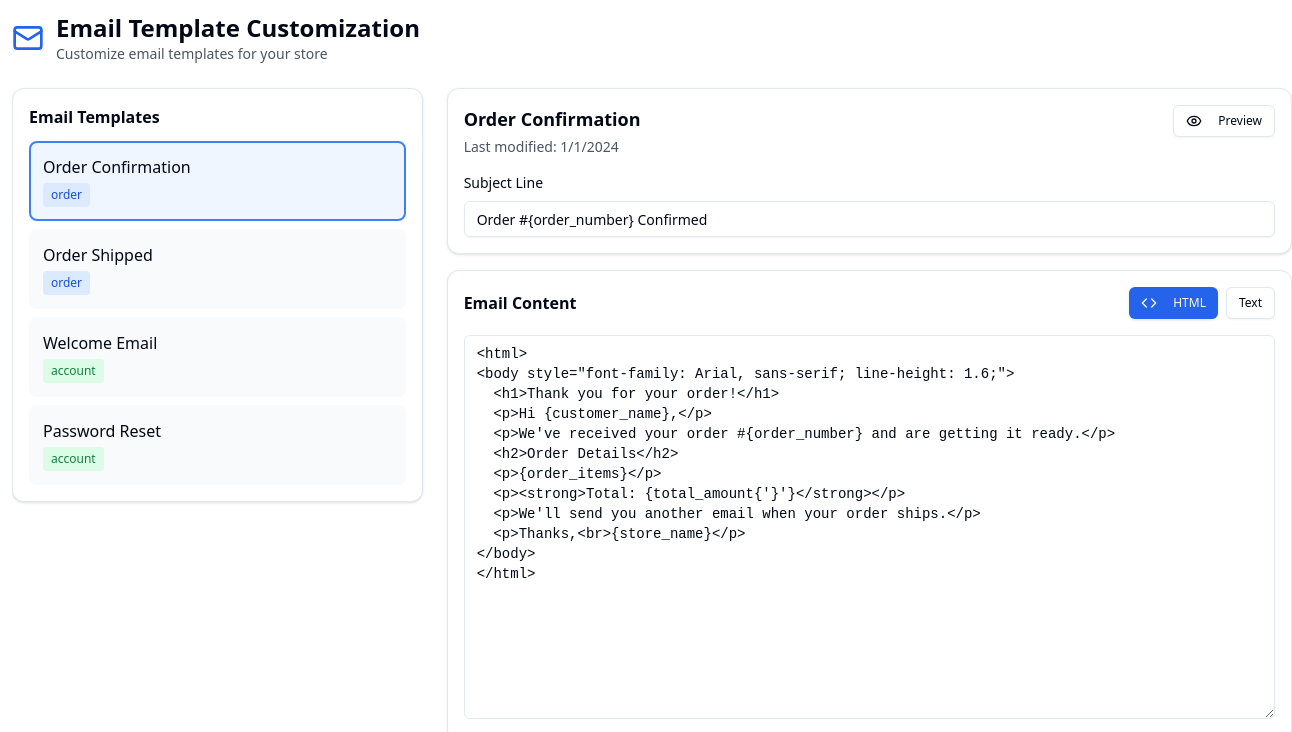
Test: EmailTemplateCustomization › switches back to HTML editor
Click the button with test id "text-mode-btn" at (1250, 303), box [1226,287,1275,319]
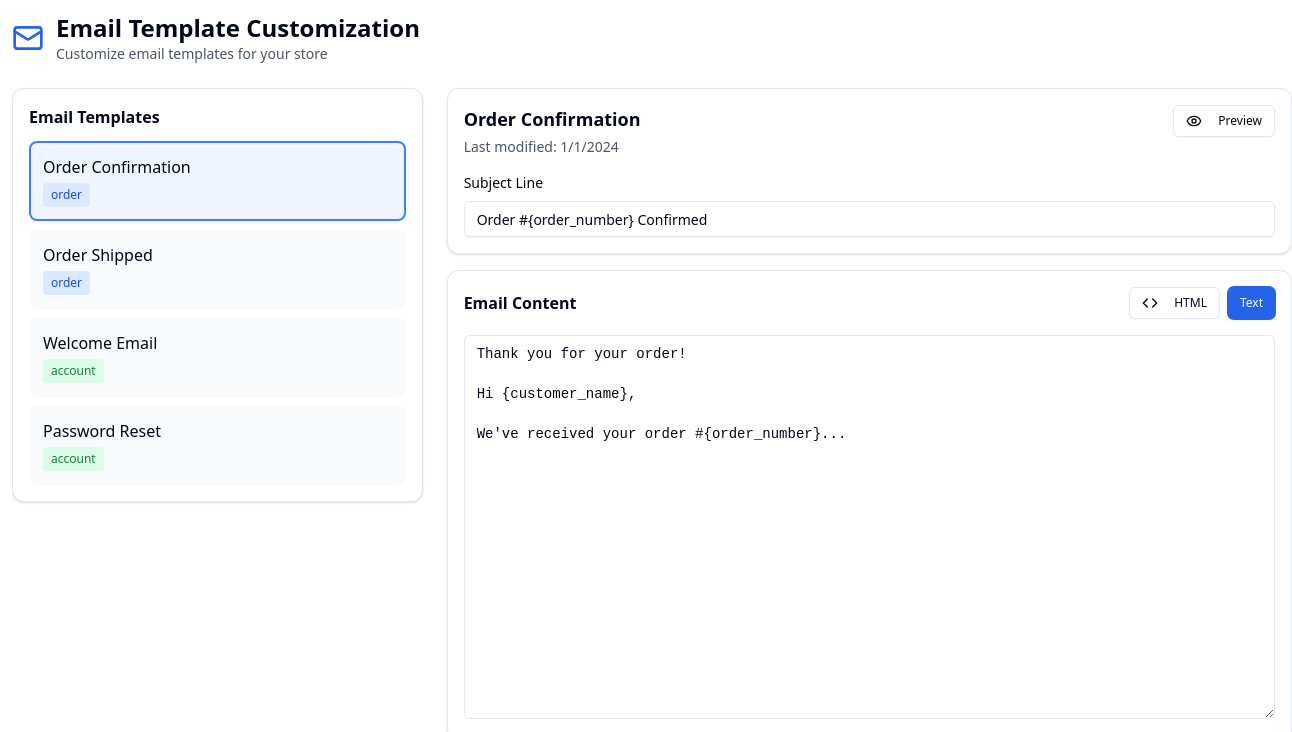
Click the button with test id "html-mode-btn" at (1175, 303), box [1129,287,1220,319]
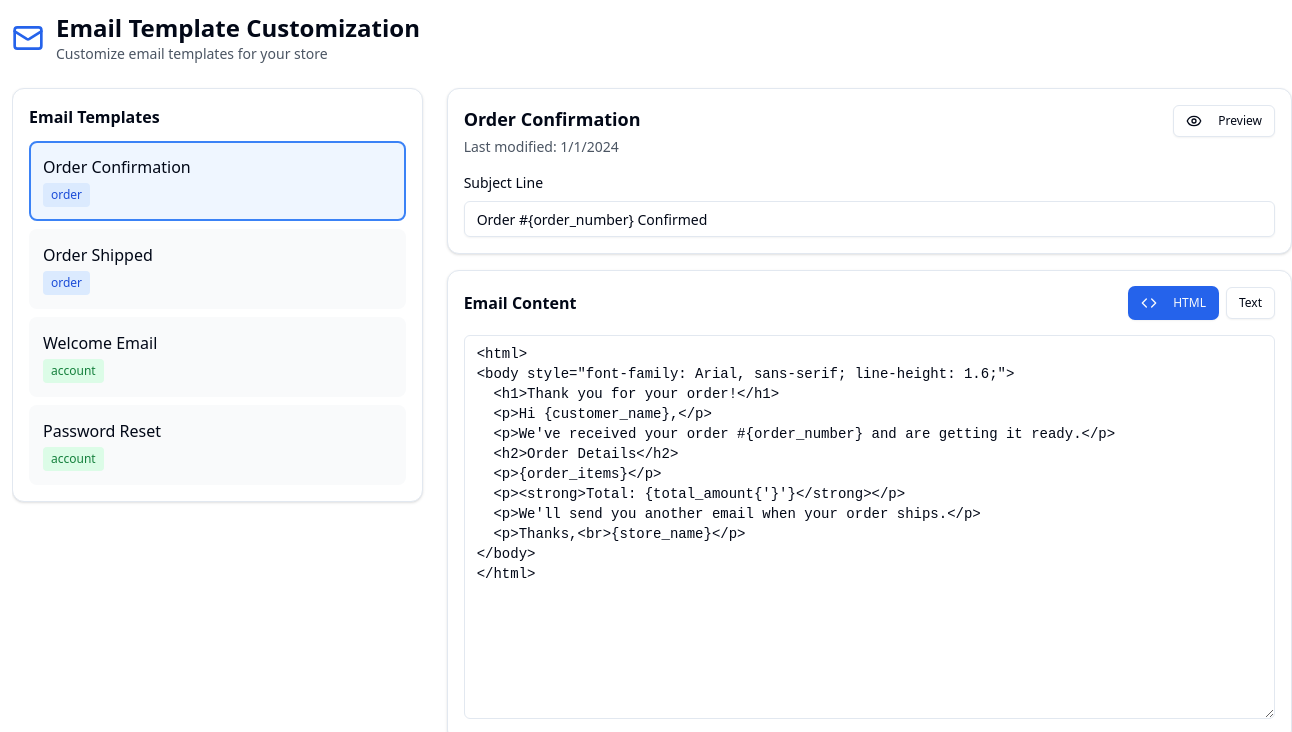
Result: the text box with test id "html-editor" is shown at [464,335,1275,719]
